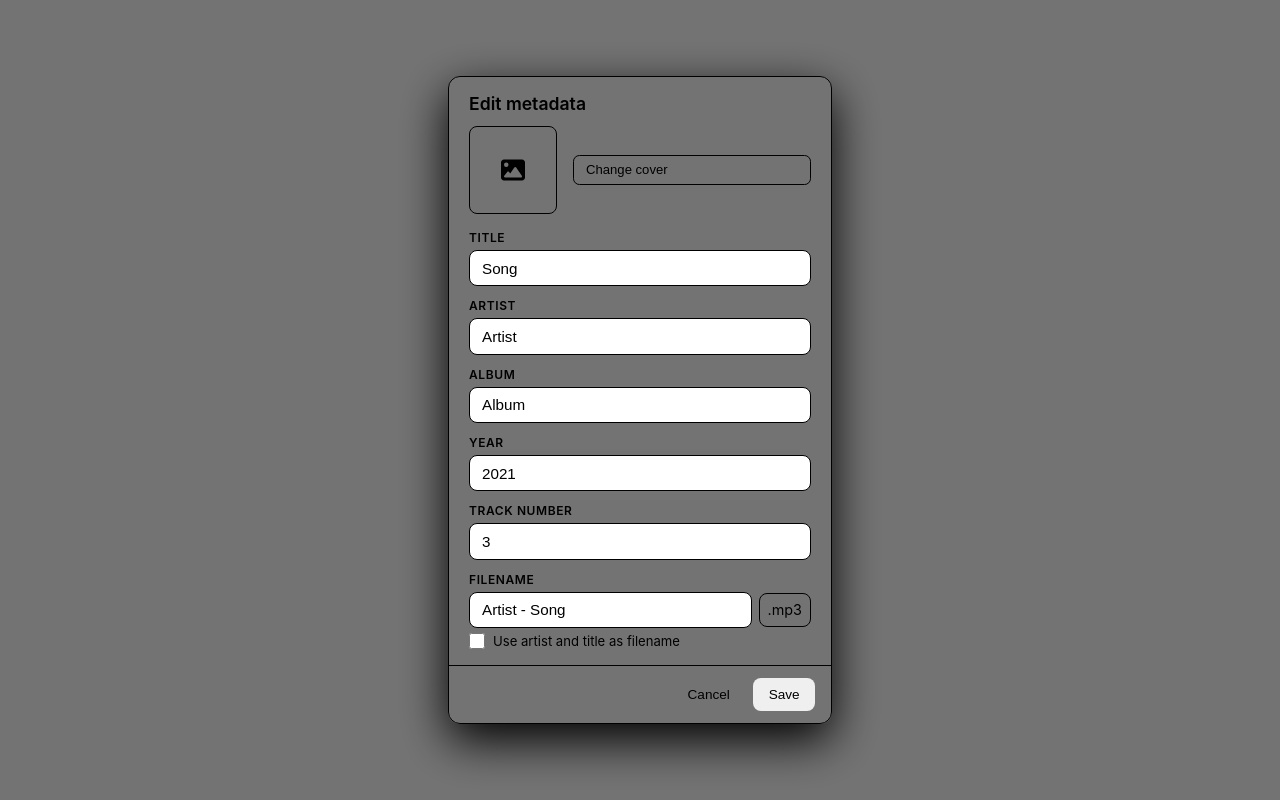
Test case: EditMetadataModal › auto-filename checkbox › keeps filename in sync as title changes while checkbox is on
Click the checkbox. click: [477, 641]
box: [469,633,485,649]
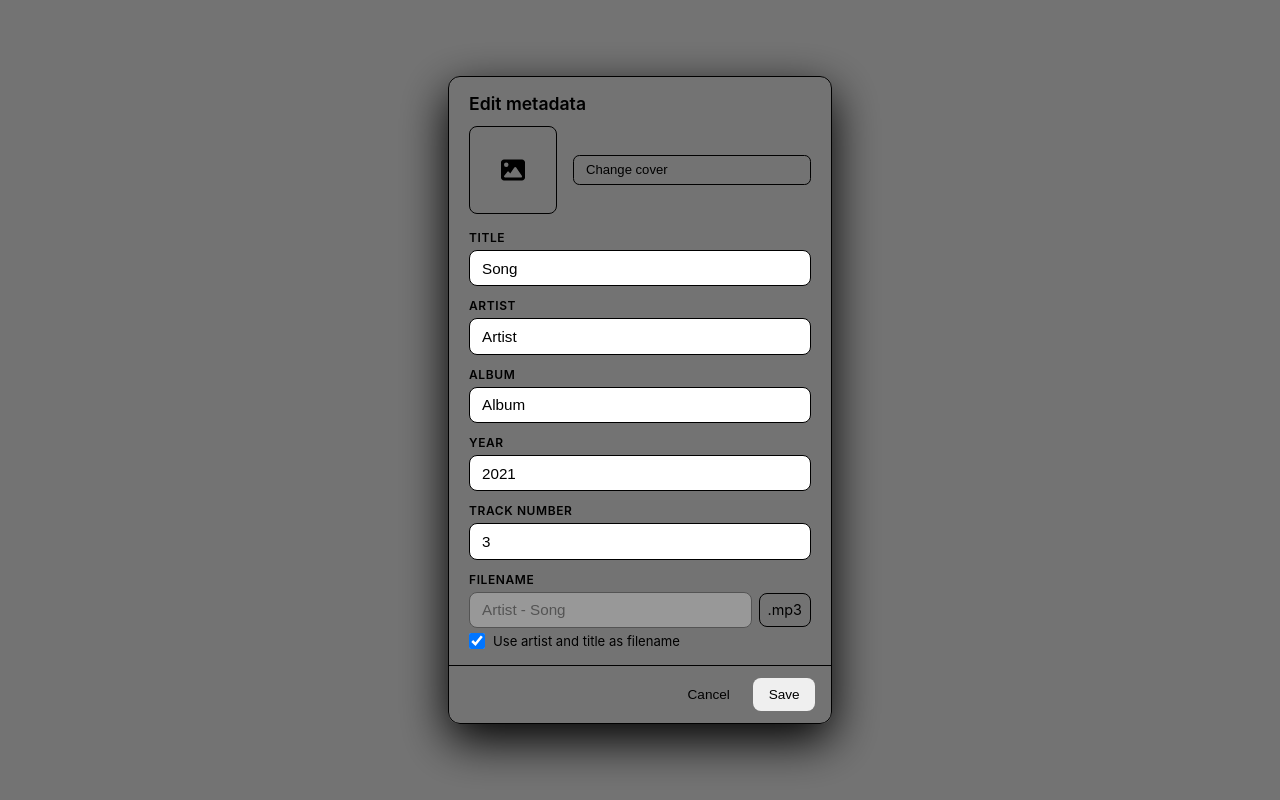
Replace the text in the field labelled "Title" with "Updated". click: [640, 268]
box: [469,250,811,286]
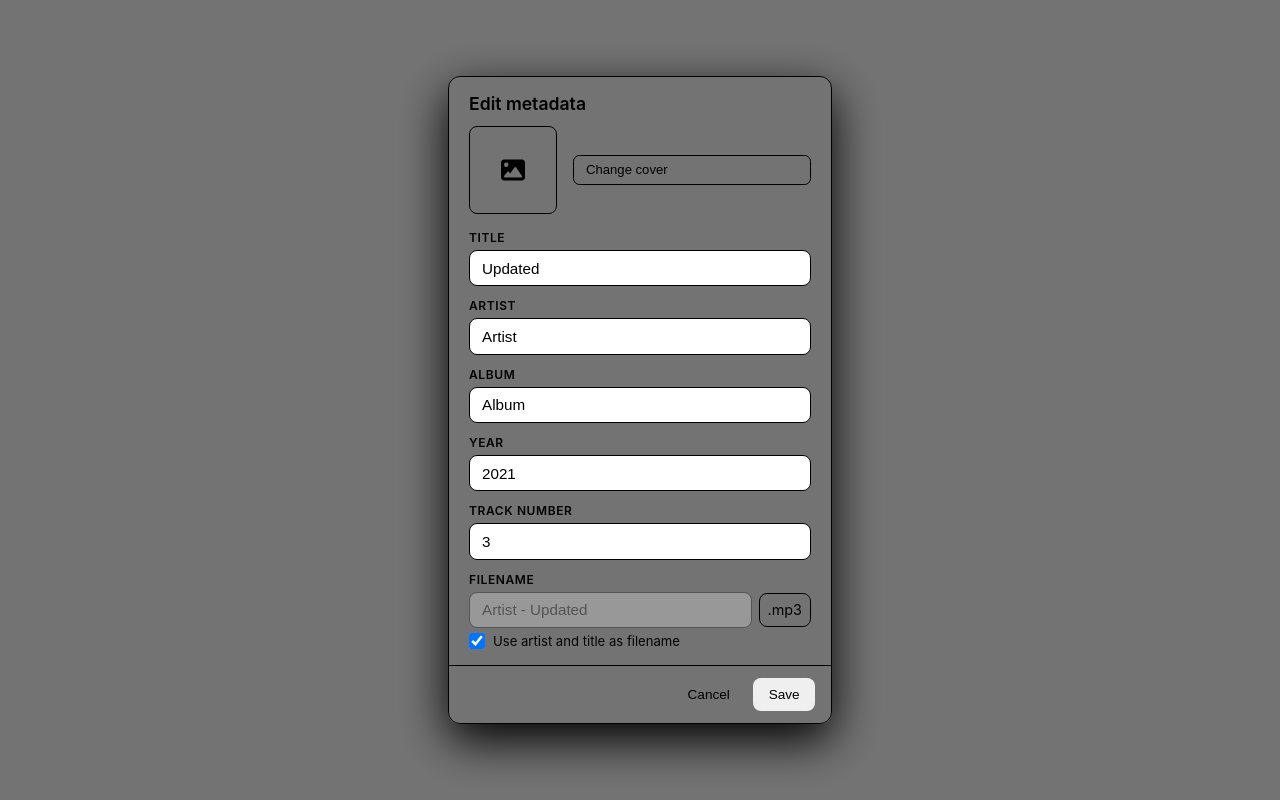
Result: the field labelled "Filename" holds "Artist - Updated" at [469,592,752,628]
